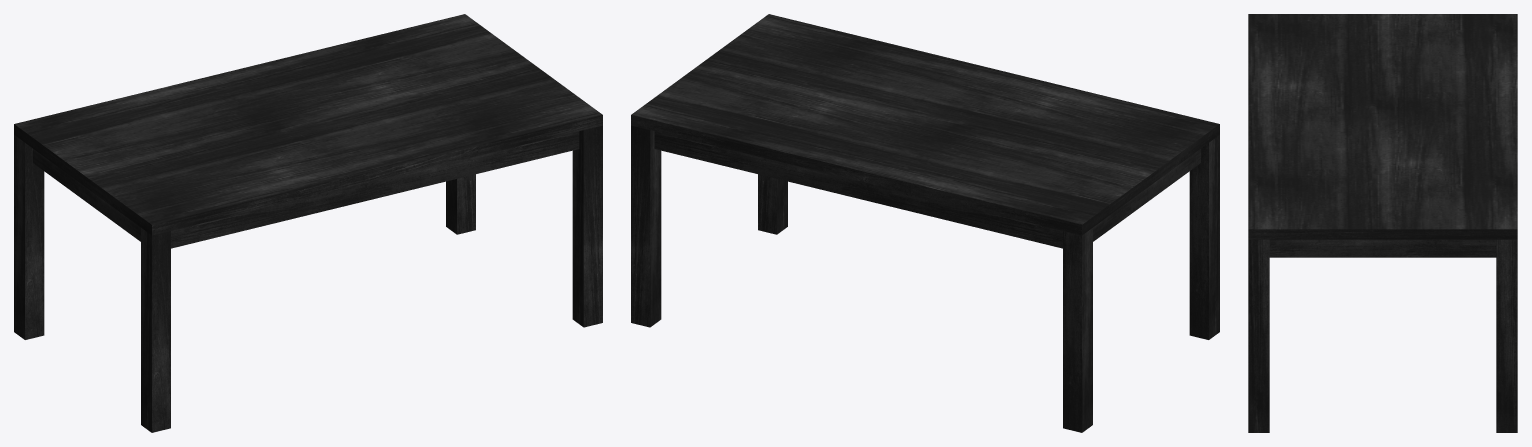
Rendered from black_table.obj.
3 views of the same model, side by side, from view 1: azimuth 30°, elevation 25°; view 2: azimuth 150°, elevation 25°; view 3: azimuth 270°, elevation 25° (orthographic). The views are drawn at different scales.
Visible parts, largest first — view 1: fusta_taula_wood_bump_fusta_taula_wood_bump_fusta_taula_wood_bum; view 2: fusta_taula_wood_bump_fusta_taula_wood_bump_fusta_taula_wood_bum; view 3: fusta_taula_wood_bump_fusta_taula_wood_bump_fusta_taula_wood_bum.
Part boxes in pixels (<box>): fusta_taula_wood_bump_fusta_taula_wood_bump_fusta_taula_wood_bum: <box>14,14,602,432</box>; fusta_taula_wood_bump_fusta_taula_wood_bump_fusta_taula_wood_bum: <box>631,14,1219,432</box>; fusta_taula_wood_bump_fusta_taula_wood_bump_fusta_taula_wood_bum: <box>1248,14,1517,432</box>.
Bounding box in the file's own units: 170 × 75 × 90.
Materials: 1 (1 with a texture image).
